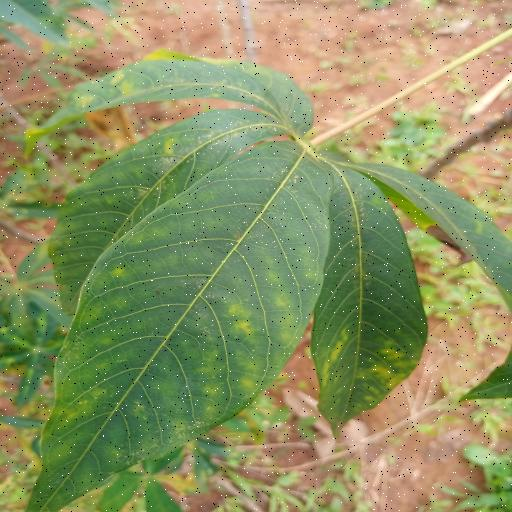Cassava_Mosaic: (17, 53, 512, 512)
